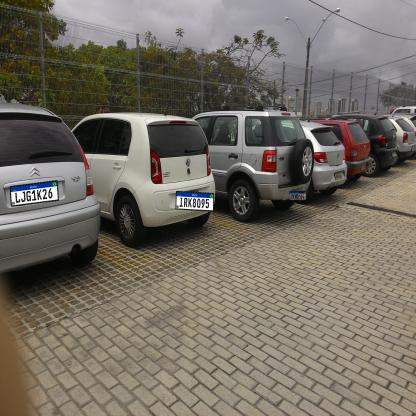PlacaM: (10, 180, 59, 207), (176, 191, 214, 211), (289, 191, 306, 200)
